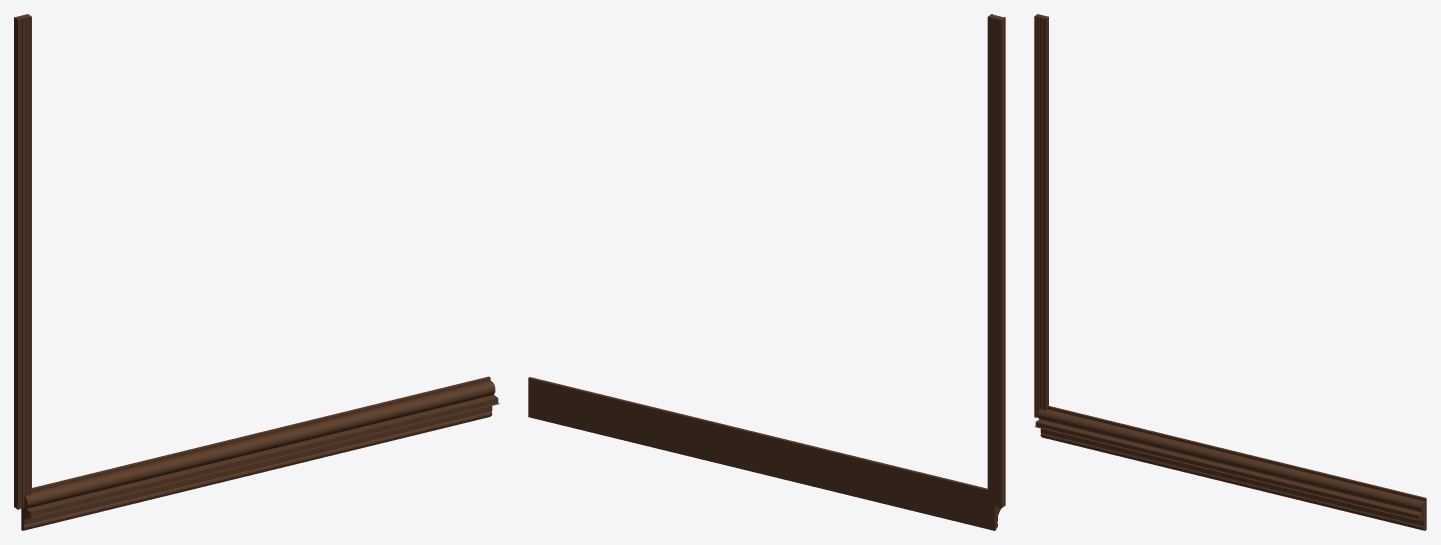
File: bookcase.glb
3 renders of one model, left to right at view 1: azimuth 30°, elevation 25°; view 2: azimuth 150°, elevation 25°; view 3: azimuth 330°, elevation 25°, orthographic. The views are drawn at different scales.
Visible parts, largest first — view 1: BaseCap, Pilaster, Crown, ShelfEdge; view 2: ShelfEdge, Crown, Pilaster, BaseCap; view 3: BaseCap, Pilaster, Crown, ShelfEdge.
Part boxes in pixels (bbox=[...]): BaseCap: bbox=[24, 376, 495, 508]; Pilaster: bbox=[14, 14, 31, 509]; Crown: bbox=[21, 394, 499, 530]; ShelfEdge: bbox=[21, 406, 492, 529]; ShelfEdge: bbox=[528, 393, 997, 529]; Crown: bbox=[528, 393, 1001, 530]; Pilaster: bbox=[987, 14, 1005, 508]; BaseCap: bbox=[528, 377, 994, 506]; BaseCap: bbox=[1038, 406, 1426, 512]; Pilaster: bbox=[1034, 14, 1048, 417]; Crown: bbox=[1035, 419, 1426, 530]; ShelfEdge: bbox=[1040, 428, 1426, 530].
Bounding box in the file's own units: 1.02 × 1.05 × 0.04.
